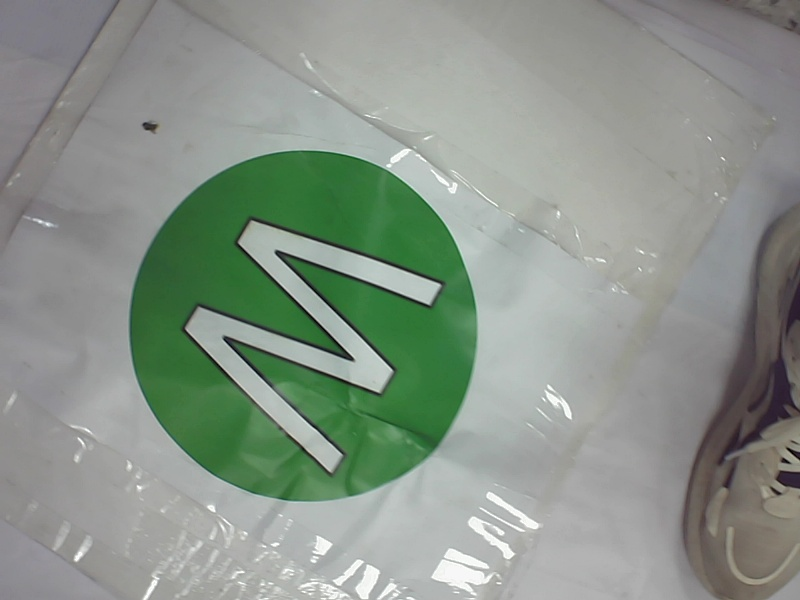areaB: (100, 136, 494, 513)
